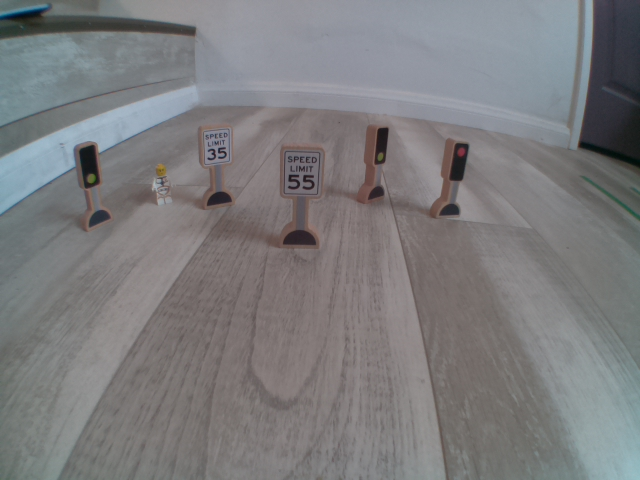Green Traffic Light: (68, 133, 109, 193), (368, 123, 390, 171)
Red Traffic Light: (446, 138, 473, 187)
Speed Limit 35: (191, 119, 238, 171)
Speed Limit 55: (277, 143, 326, 200)
person: (147, 161, 173, 208)
